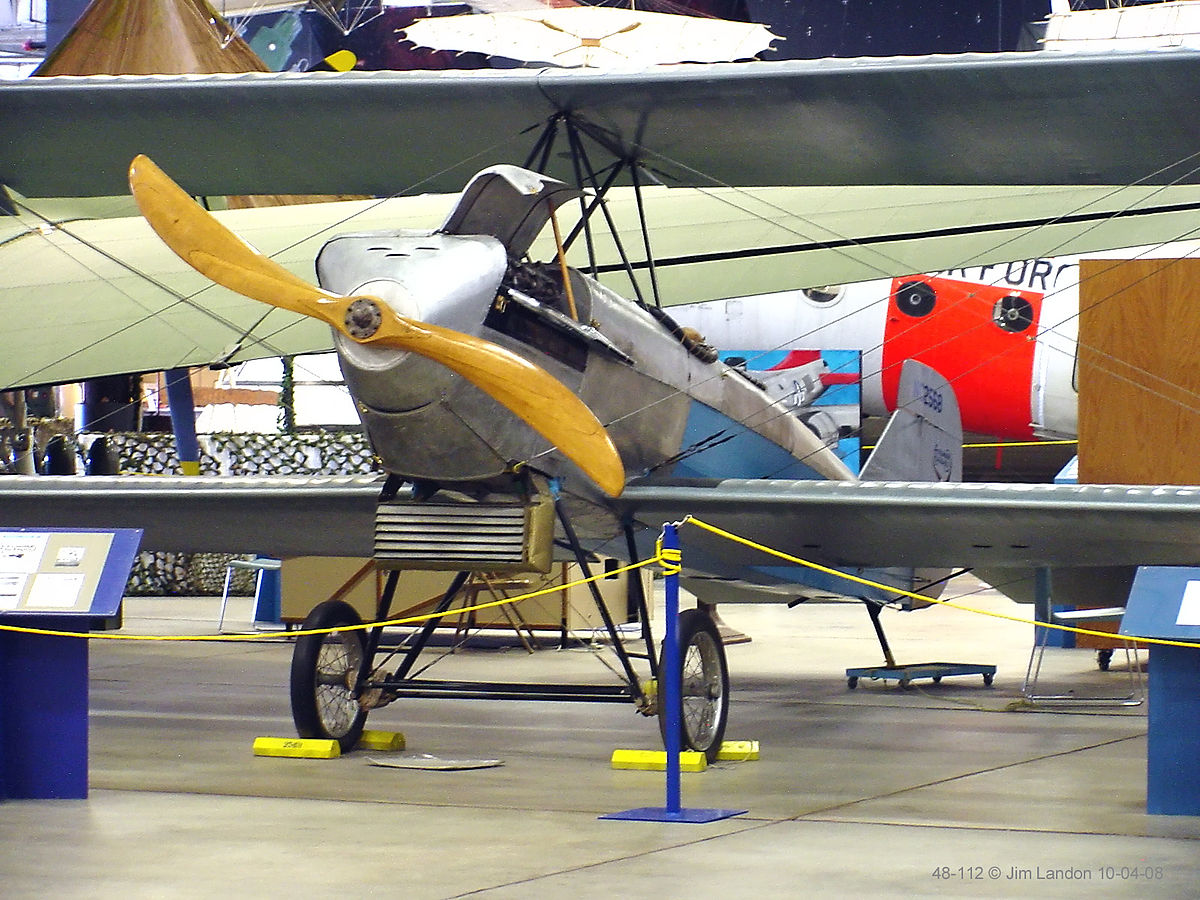Propeller: (121, 150, 626, 499)
